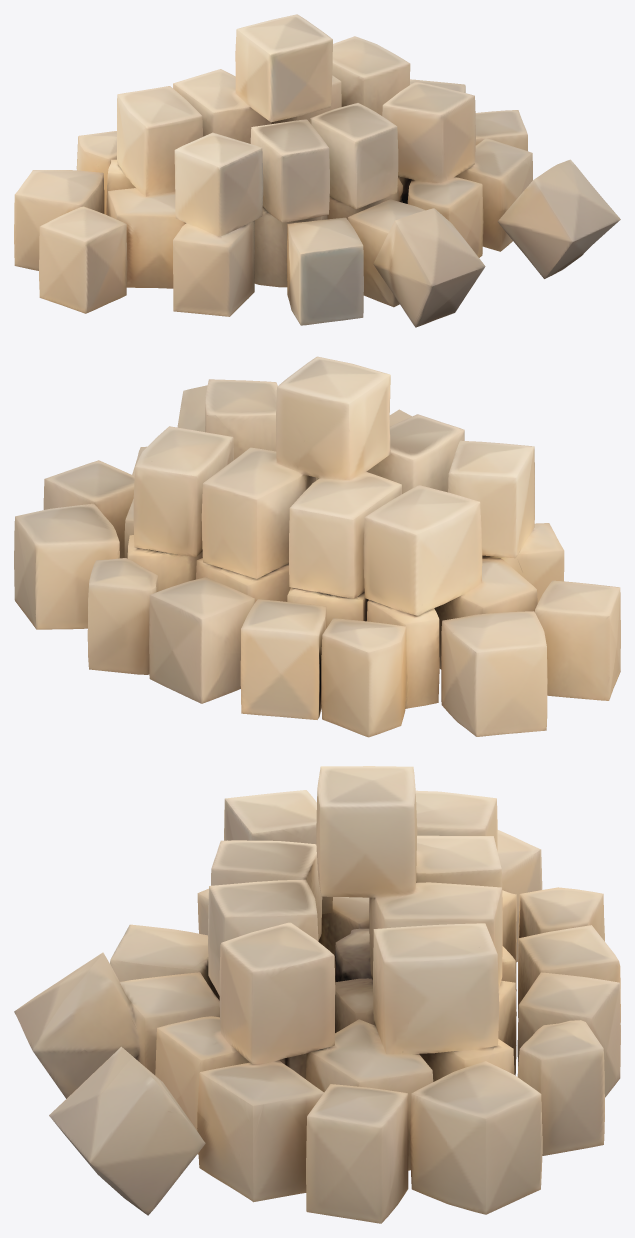
Rendered from base_basic_shaded.fbx.
3 renders of one model, top to bottom at view 1: azimuth 30°, elevation 25°; view 2: azimuth 150°, elevation 25°; view 3: azimuth 270°, elevation 25°, orthographic. The views are drawn at different scales.
Visible parts, largest first — view 1: model; view 2: model; view 3: model.
Part boxes in pixels (x1,y1,x2,y2): model: (14, 14, 620, 327); model: (14, 356, 620, 737); model: (14, 766, 620, 1223).
Size of the model in its own units: 176 by 78.37 by 144.
